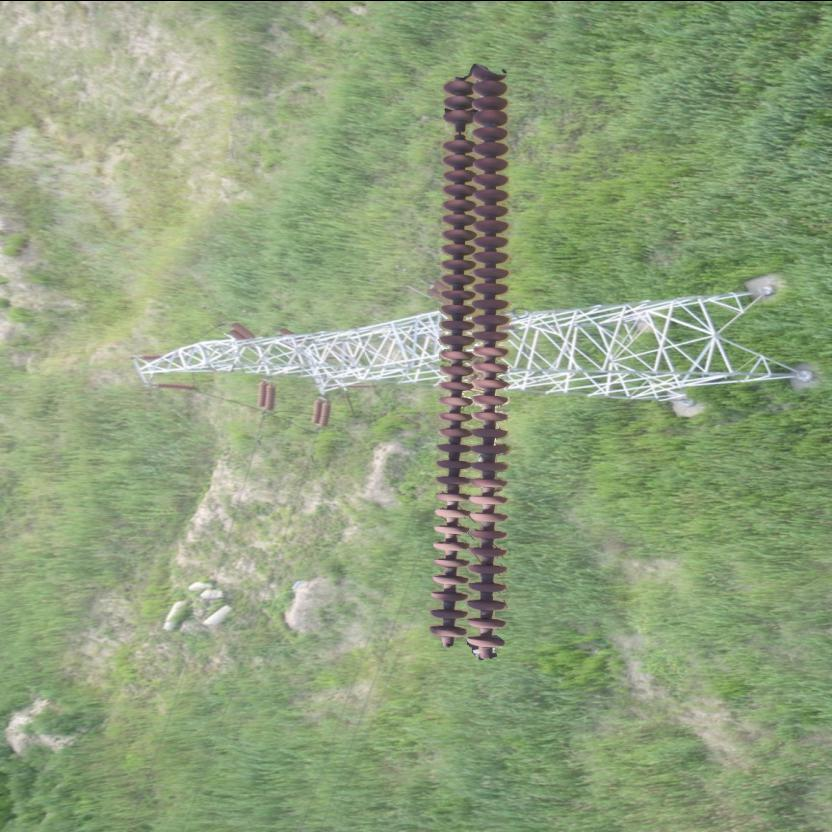defect: (440, 107, 472, 156)
